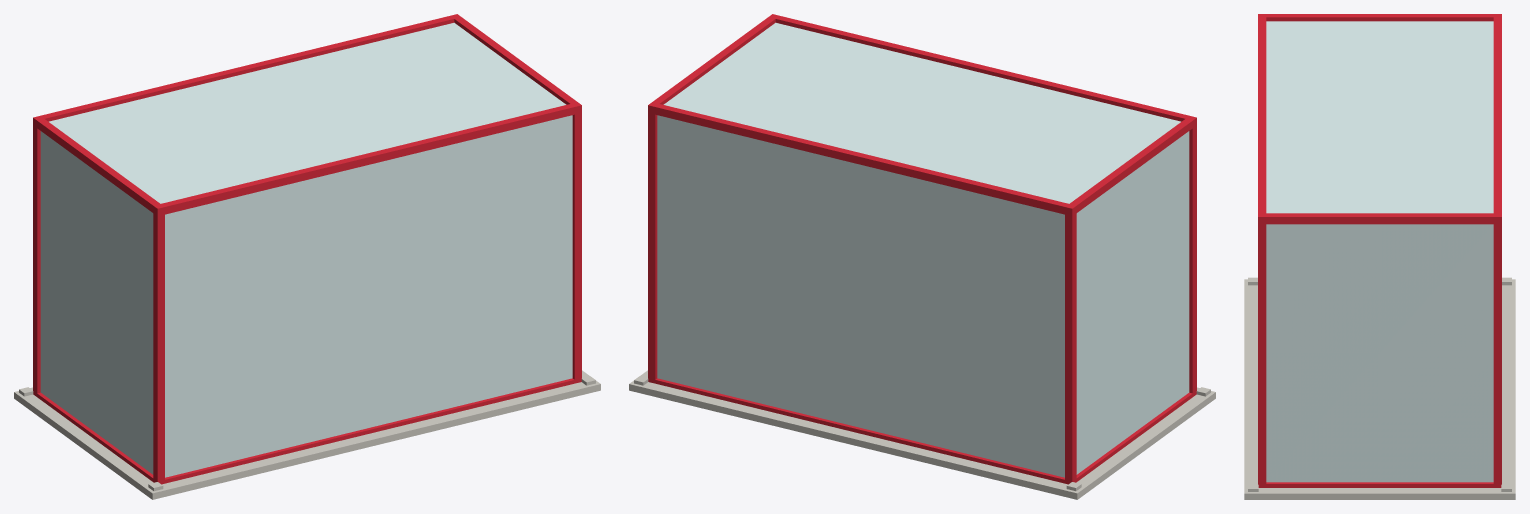
Rendered from galyn-mashin.glb.
3 renders of one model, left to right at view 1: azimuth 30°, elevation 25°; view 2: azimuth 150°, elevation 25°; view 3: azimuth 270°, elevation 25°, orthographic. The views are drawn at different scales.
Bounding box in the file's own units: 0.43 × 0.2595 × 0.23.
